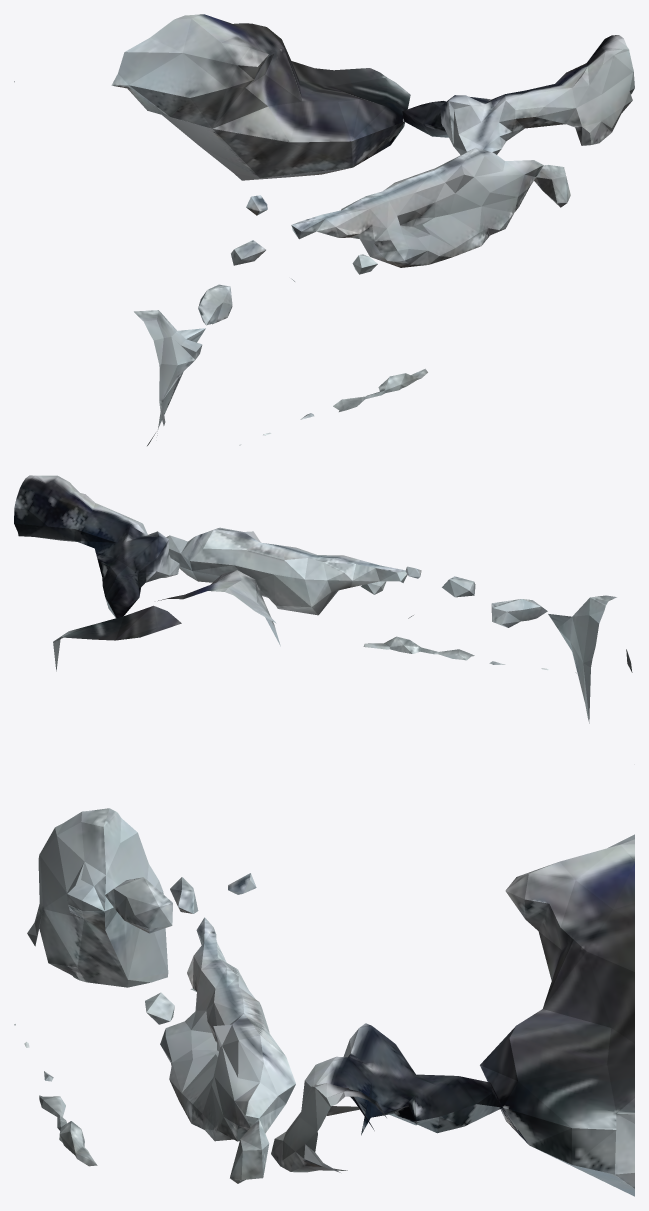
3 renders of one model, top to bottom at view 1: azimuth 30°, elevation 25°; view 2: azimuth 150°, elevation 25°; view 3: azimuth 270°, elevation 25°, orthographic. The views are drawn at different scales.
Size of the model in its own units: 0.8374 by 0.3036 by 0.5779.
Materials: 1 (1 with a texture image).
